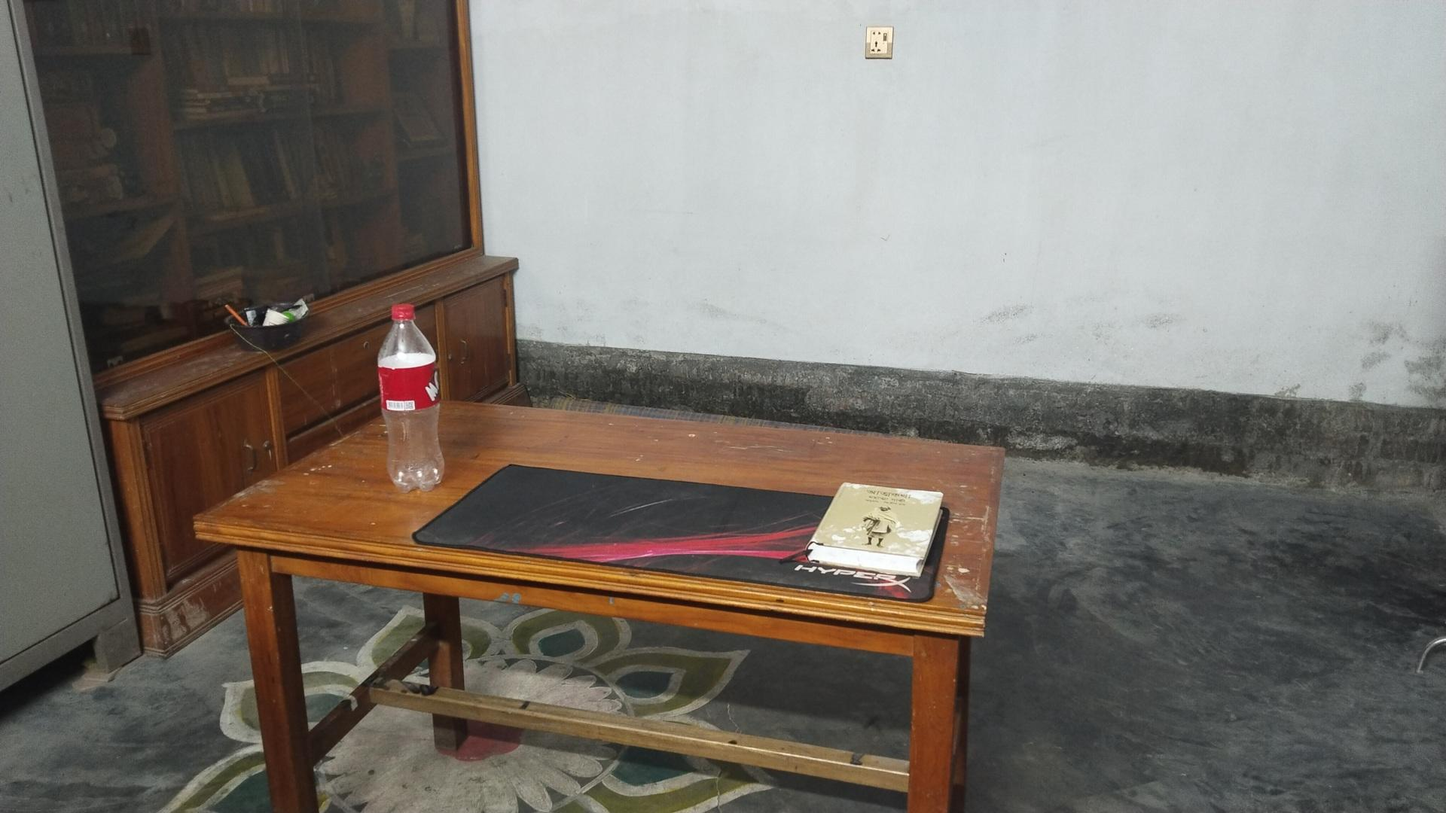Book: (813, 470, 949, 584)
Bottle: (370, 305, 449, 491)
Table: (192, 384, 996, 813)
